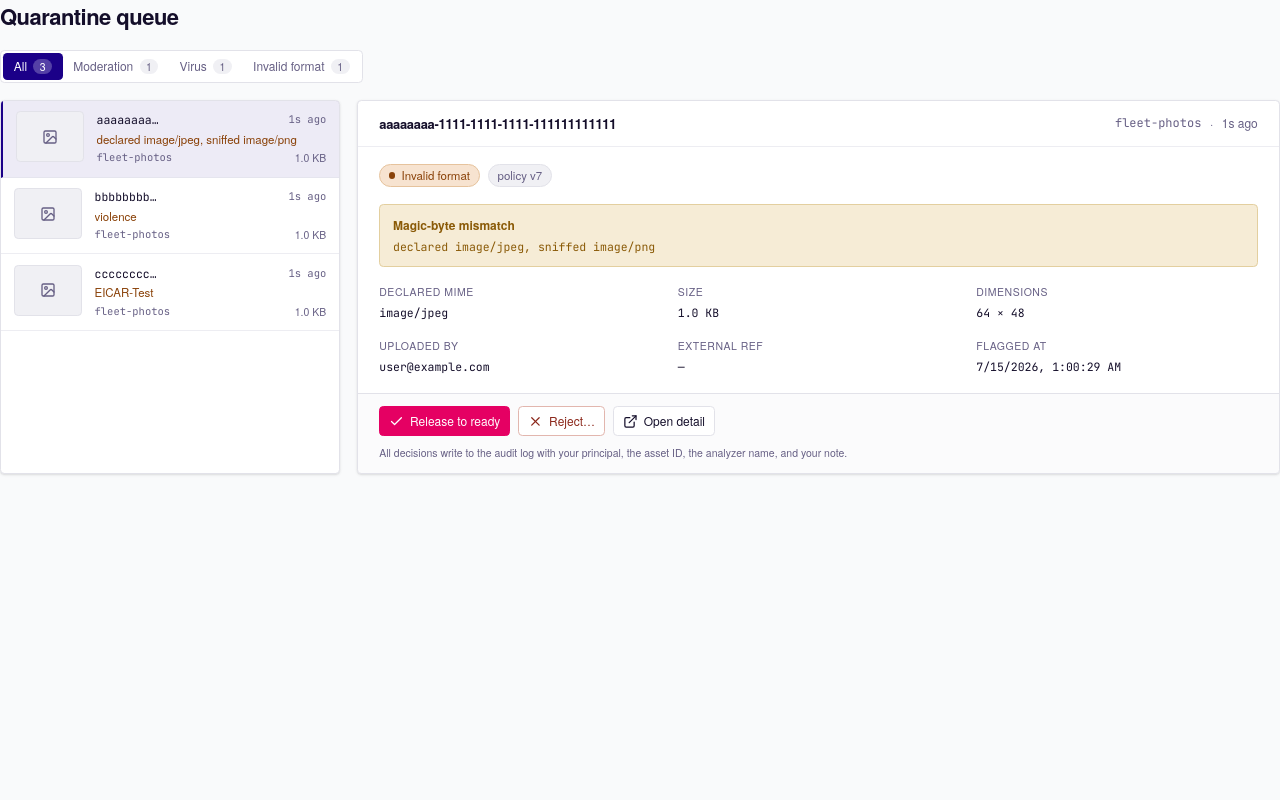
Scenario: QuarantinePage › disables the reject-confirm button while the note is too short
The width and height of the screenshot is (1280, 800).
Click the button "Reject…" at point(561, 421), box top-left (518, 406), bottom-right (604, 436)
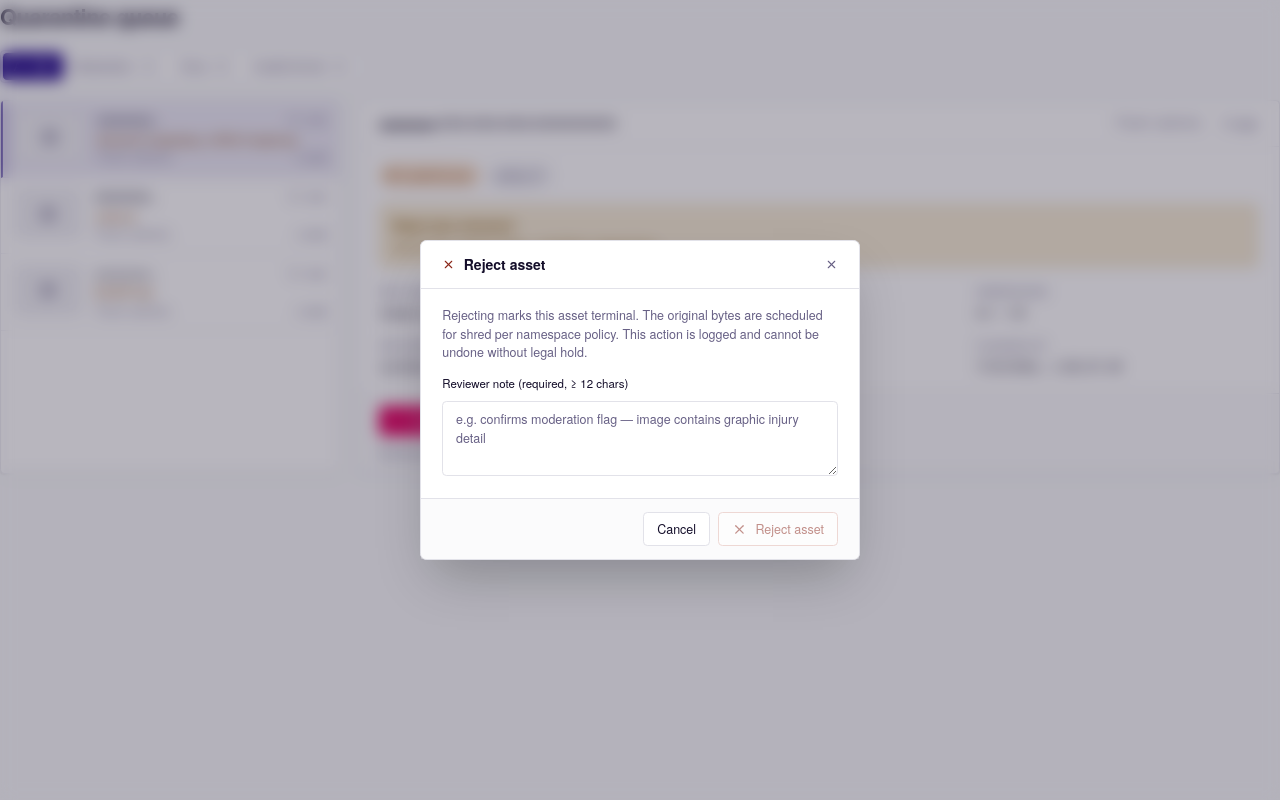
Result: the button "Reject asset" is disabled at top-left (718, 512), bottom-right (838, 546)
